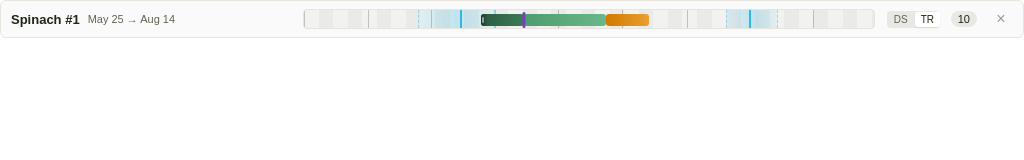
PlantingCard › method toggle › dismiss button clears the notice
Step 1. Click the button titled "Direct sow outdoors" → (901, 19), box x1=888 y1=12 x2=914 y2=26
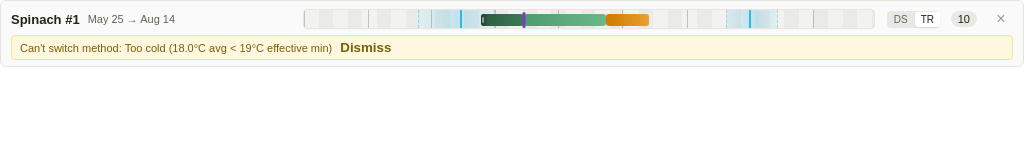
Now the text "Can't switch method" is shown, box x1=20 y1=42 x2=125 y2=54
Step 2. Click the button "Dismiss" → (366, 48), box x1=340 y1=40 x2=391 y2=55
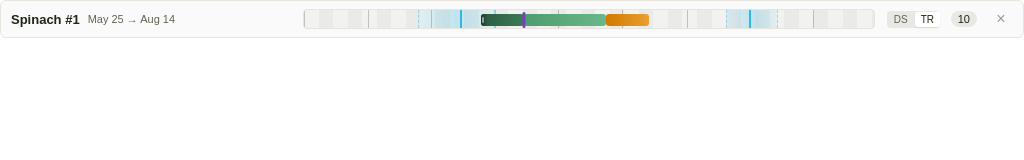
Now the text "Can't switch method" is gone
